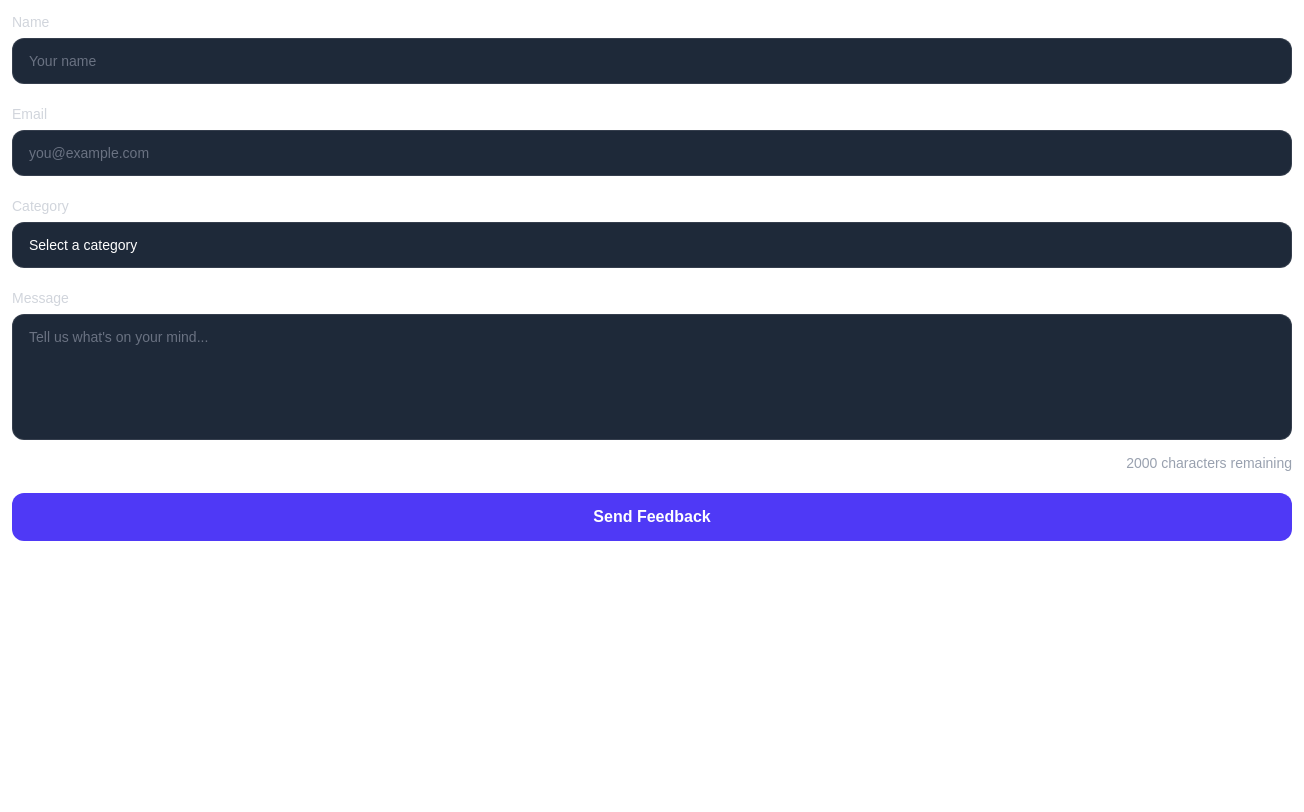
Test: FeedbackForm › shows rate-limit message on 429 response
Step 1. Type "Test User" into the field labelled "Name" → {"x": 652, "y": 61}, box [12,38,1292,84]
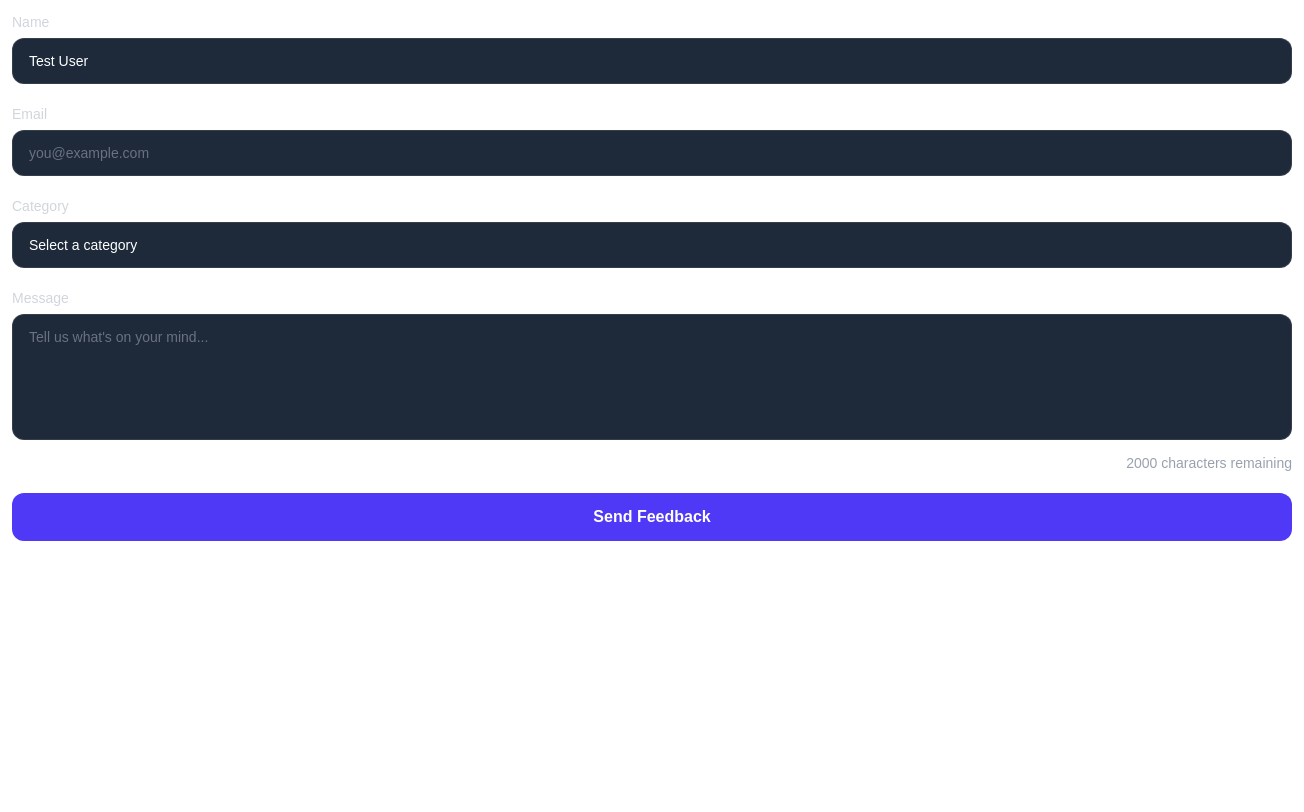
Step 2. Type "test@example.com" into the field labelled "Email" → {"x": 652, "y": 153}, box [12,130,1292,176]
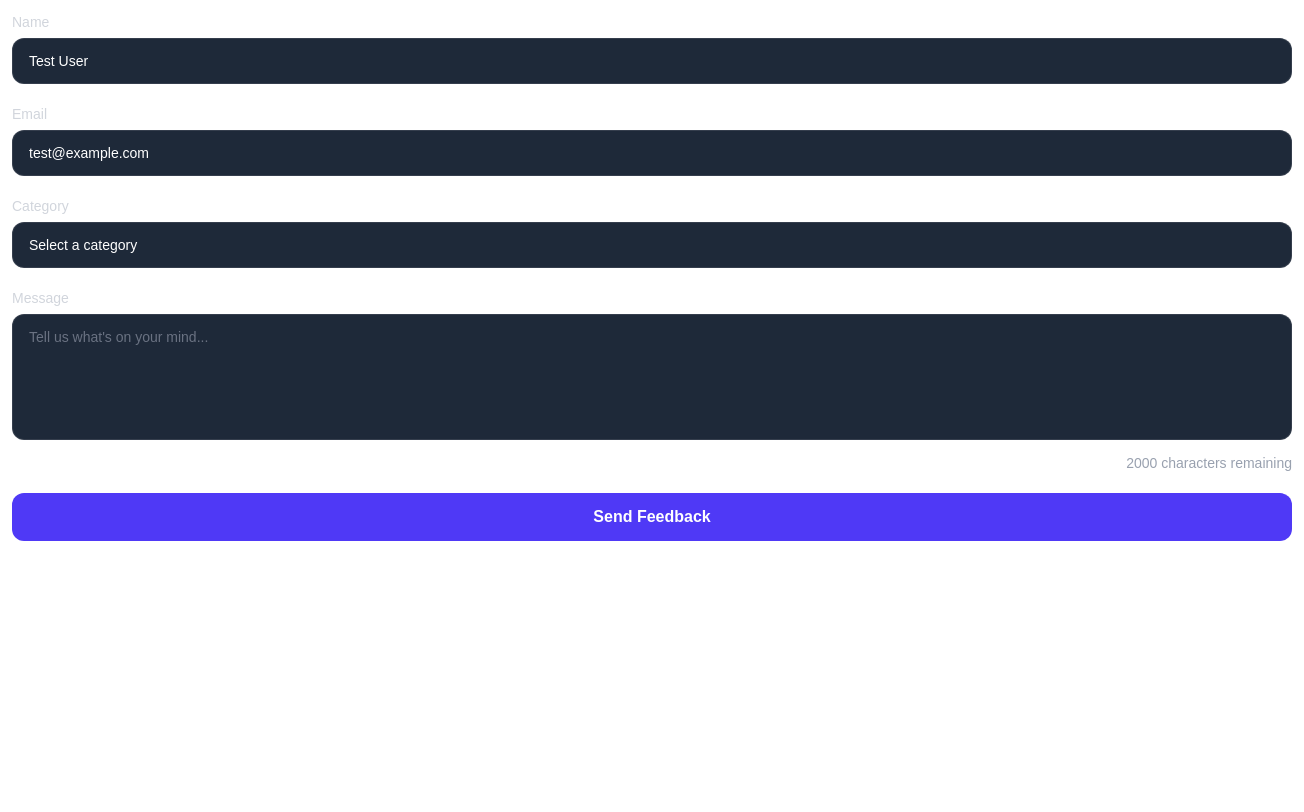
Step 3. Select "Bug Report" in the dropdown labelled "Category" → {"x": 652, "y": 245}, box [12,222,1292,268]
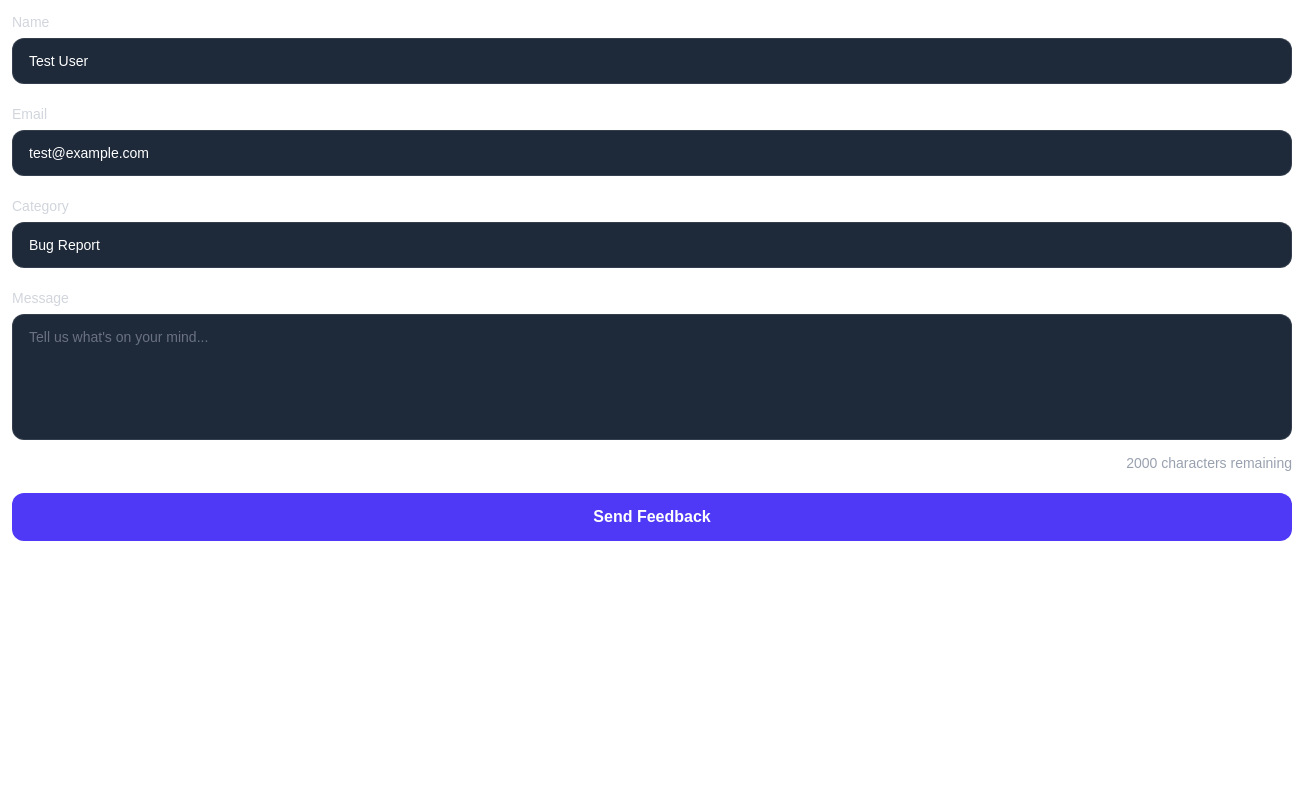
Step 4. Type "This is a test message that is long enough." into the text box labelled "Message" → {"x": 652, "y": 377}, box [12,314,1292,440]
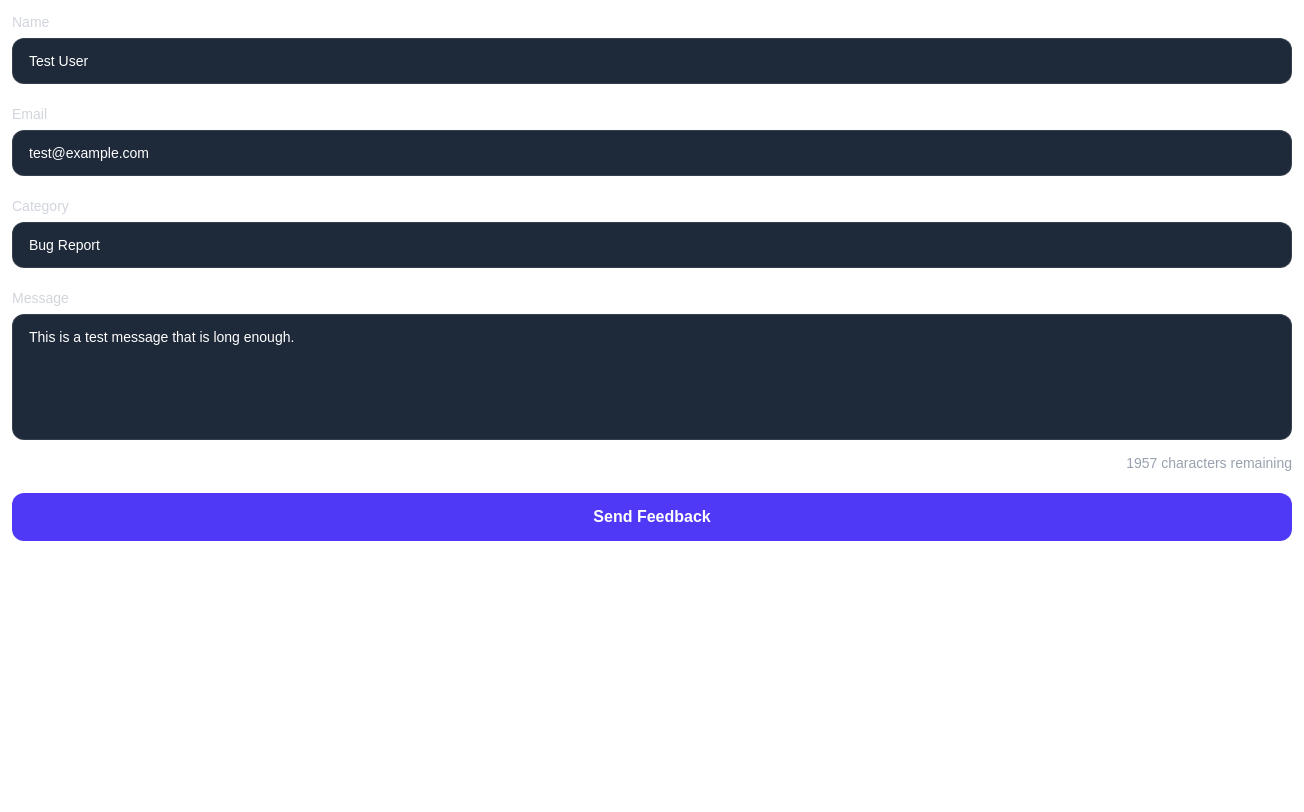
Step 5. Click the button "Send Feedback" → {"x": 652, "y": 517}, box [12,493,1292,541]
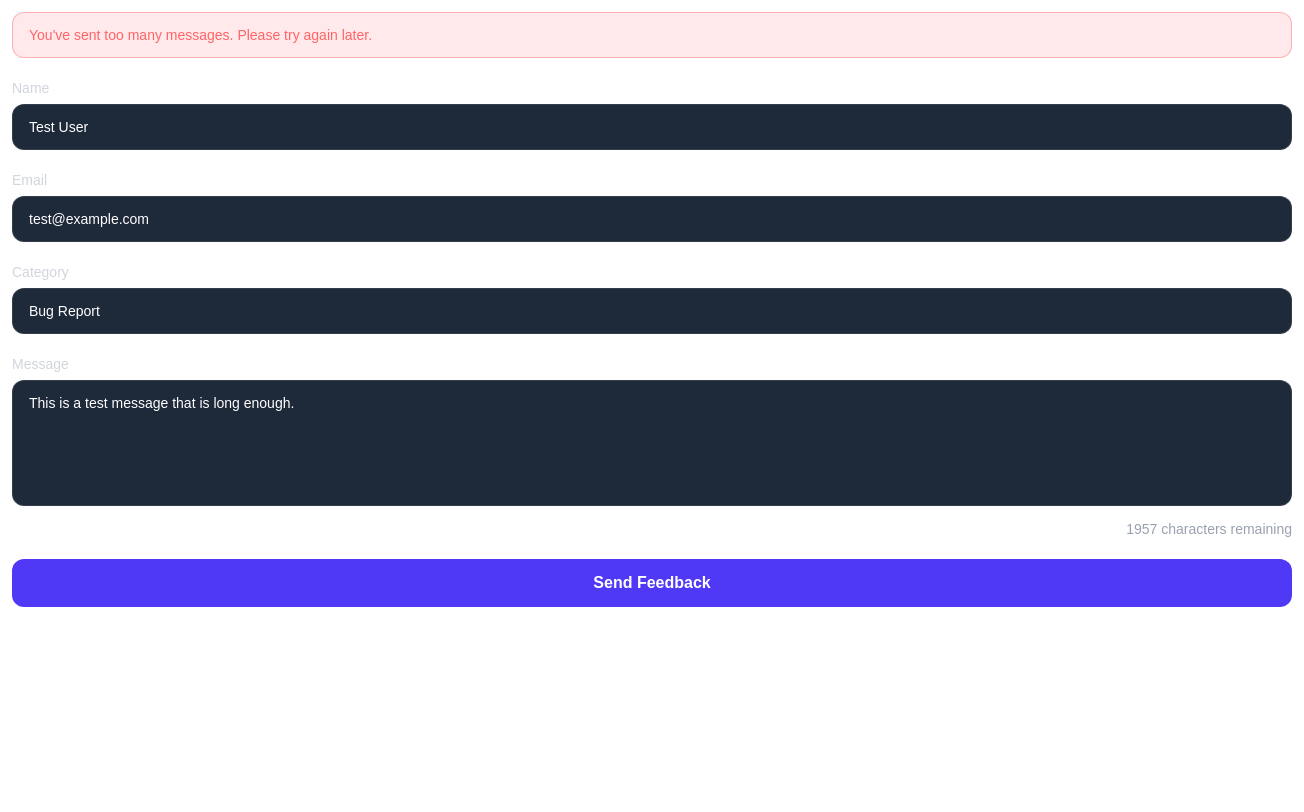
Check: the text "You've sent too many messages. Please try again later." is shown, box [12,12,1292,58]
